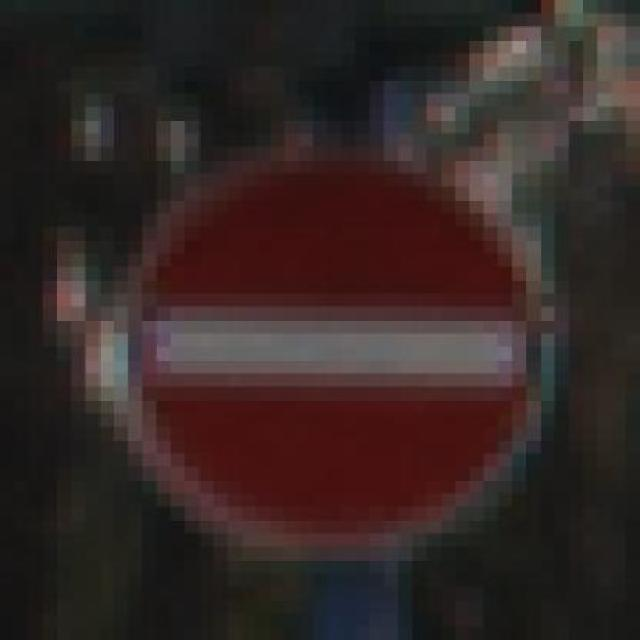No Entry: (92, 110, 576, 564)
